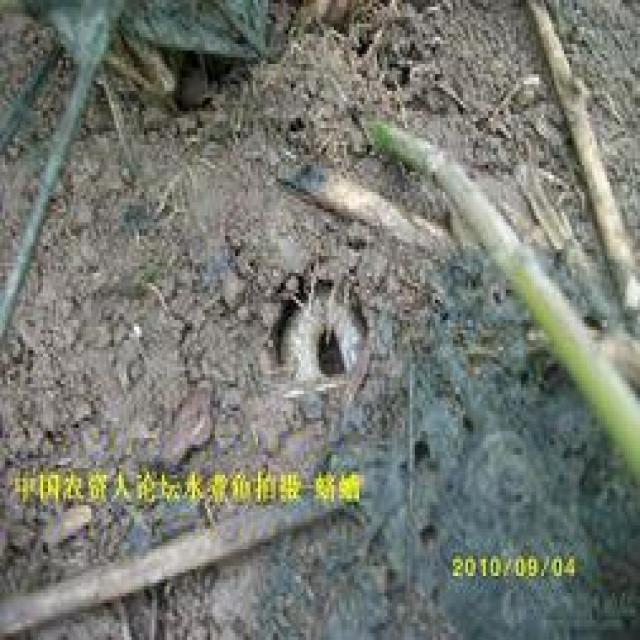Grub-Adult-: (258, 254, 387, 428)
